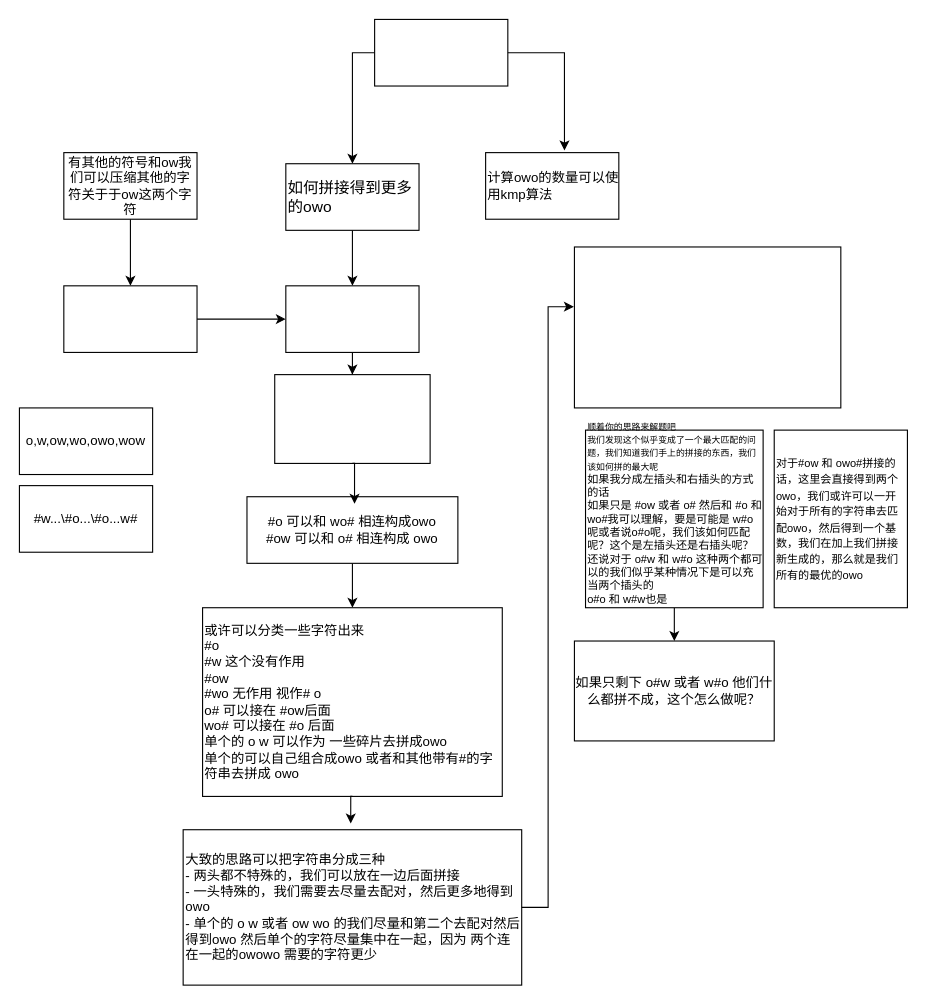
The diagram is 927 pixels wide and 1005 high, and some of its shapes have lost their labels. Each missing label, with the box of its shape:
#ow 和 o#配对 #o 和 wo#配对 #wo 当作 #o . ow# 当作o# 小的单独的集中起来放在中间 剩下下尽量配对: (573, 246, 841, 408)
#owo some chars# 如果字符两边都没有那么我们只需要计算其中的owo数量即可: (285, 285, 419, 352)
o some char# w some char# 。。。 类似这种如果旁边有关键的字符我们需要去考虑: (274, 374, 430, 463)
owo: (374, 18, 508, 86)
我们处理的字符变得有限个数: (63, 285, 197, 352)
